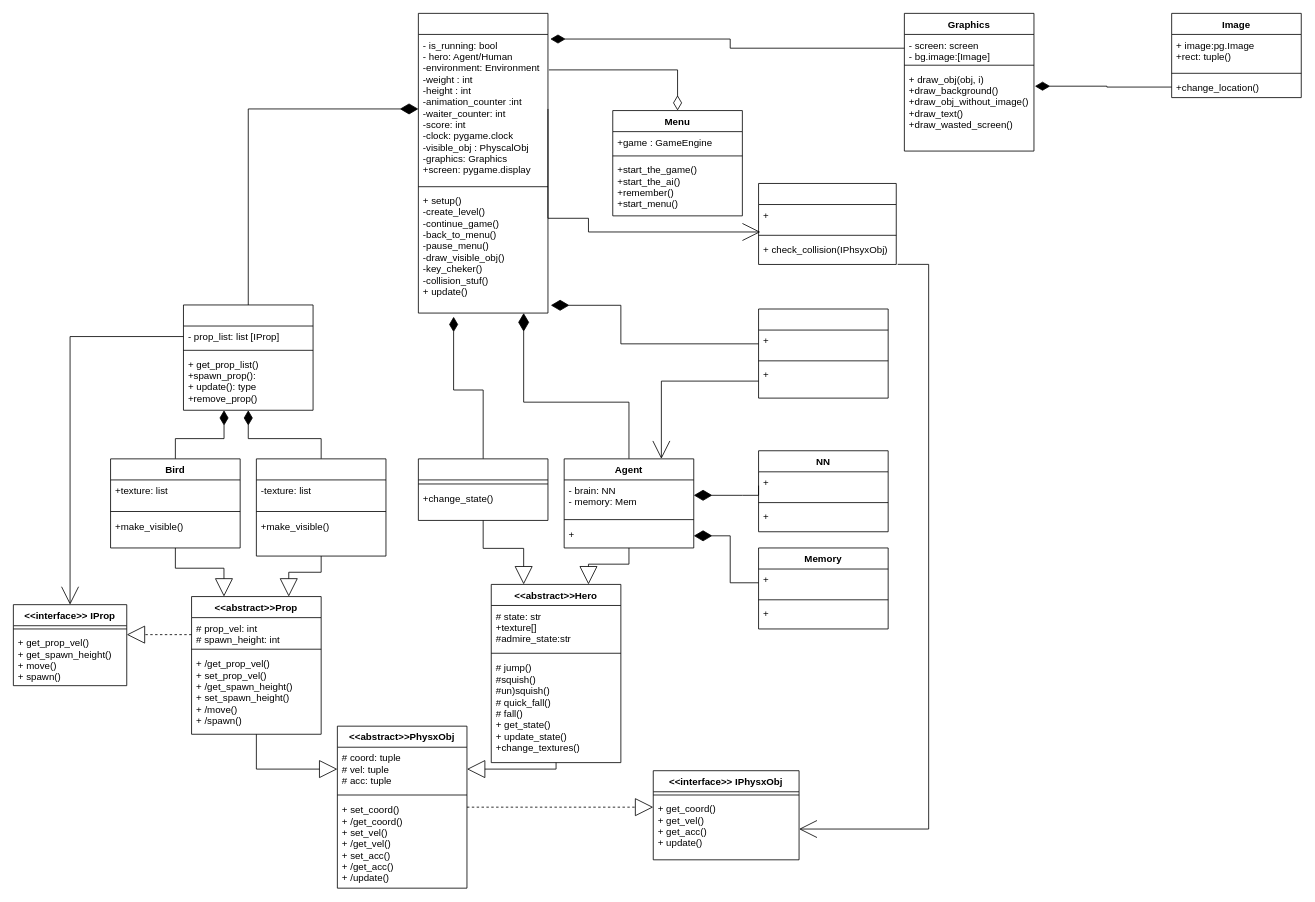
Image size: 1315x902. Some labels were removed from this diagram. Here are the shapes that lost their labels. From the top down, the box of each, then its label:
(418, 13, 548, 313): GameEngine
(758, 183, 896, 264): CollisionLogic
(183, 304, 313, 410): Enviroment
(758, 308, 888, 398): Interpretor
(256, 458, 386, 556): Cactus
(418, 458, 548, 520): Human
